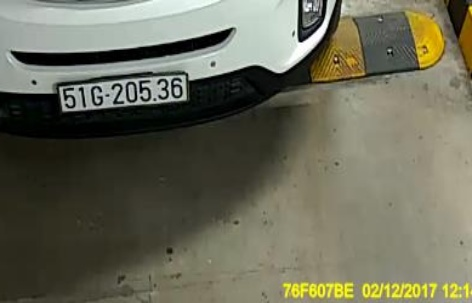plate: (51, 72, 190, 109)
